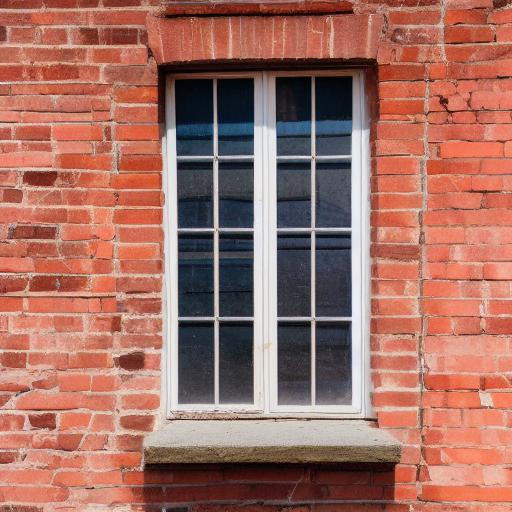Window: (136, 17, 407, 467)
